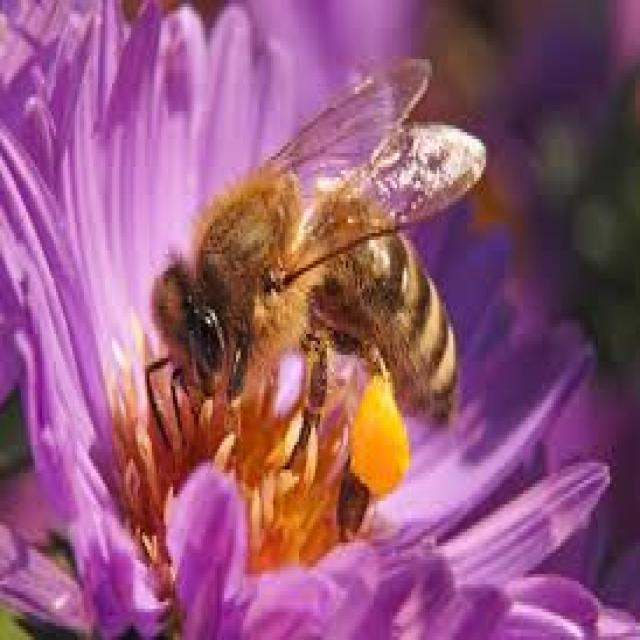Bees: (142, 56, 487, 548)
